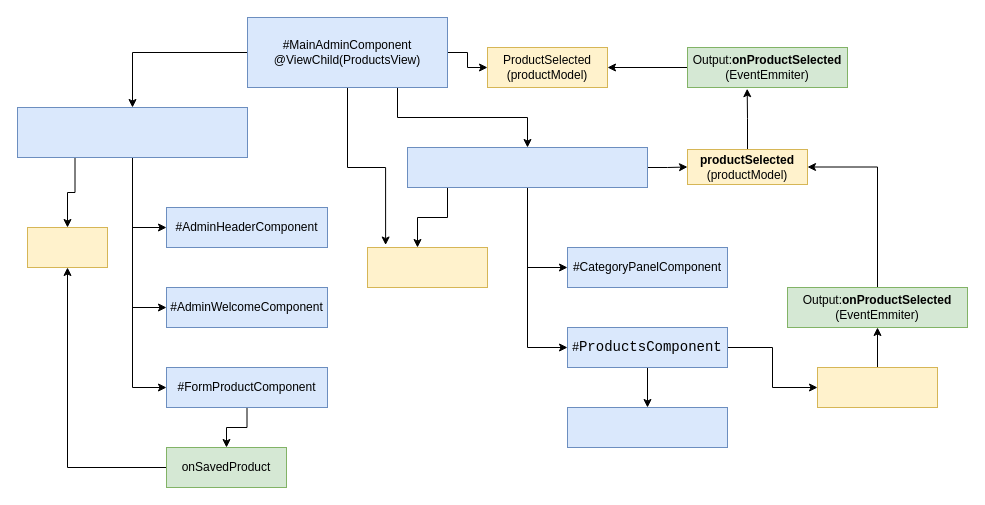
The diagram is 985 pixels wide and 505 high, and some of its shapes have lost their labels. The shapes that lost their labels are listed below. From the top down, each one's centre as x and y in pixels, then its label:
the point at 132,132: #AdminPanelComponent Output: UpdateProduct (EventEmmiter)
the point at 527,167: # ProductsViewComponent
the point at 67,247: CloseForm()
the point at 427,267: RefreshProducts
the point at 877,387: selectProduct (productID)
the point at 647,427: # ProductComponent
